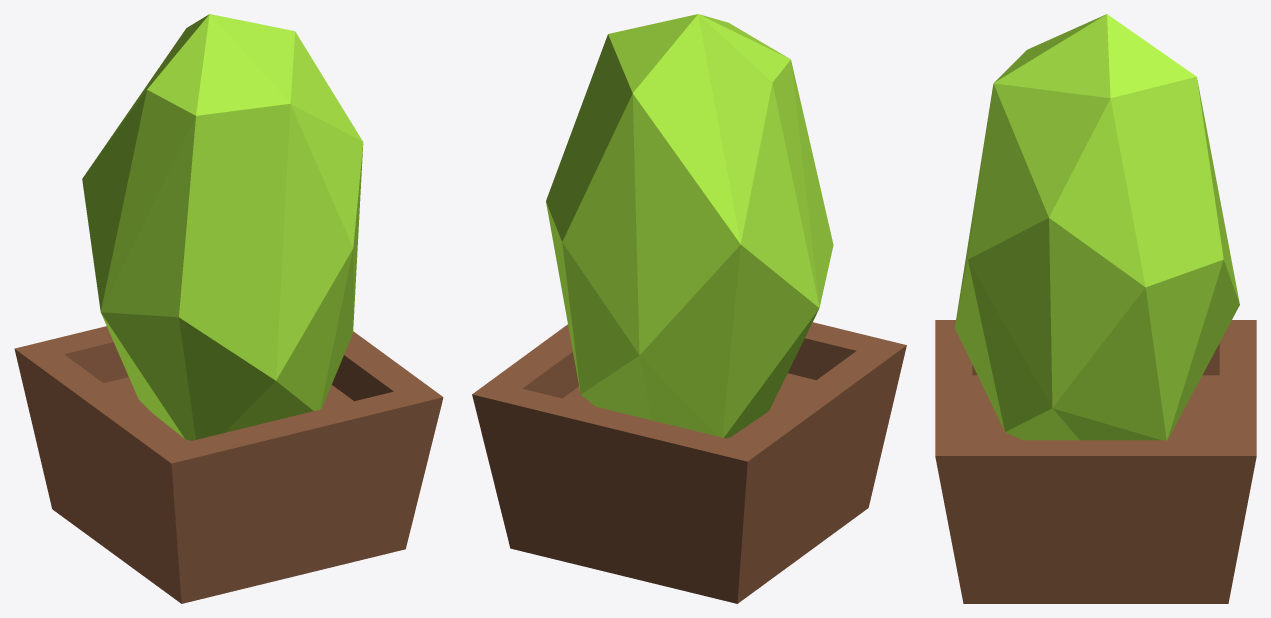
File: Natures_Pot_Bush_big.glb
3 renders of one model, left to right at view 1: azimuth 30°, elevation 25°; view 2: azimuth 150°, elevation 25°; view 3: azimuth 270°, elevation 25°, orthographic. The views are drawn at different scales.
Parts seen in each view (by area): view 1: Natures_Pot Bush_big; view 2: Natures_Pot Bush_big; view 3: Natures_Pot Bush_big.
Part boxes in pixels (x1=…): Natures_Pot Bush_big: x1=14, y1=14, x2=443, y2=603; Natures_Pot Bush_big: x1=472, y1=14, x2=906, y2=603; Natures_Pot Bush_big: x1=935, y1=14, x2=1256, y2=603.
Bounding box in the file's own units: 0.7283 × 1.32 × 0.7283.
1 material, 1 textured.
